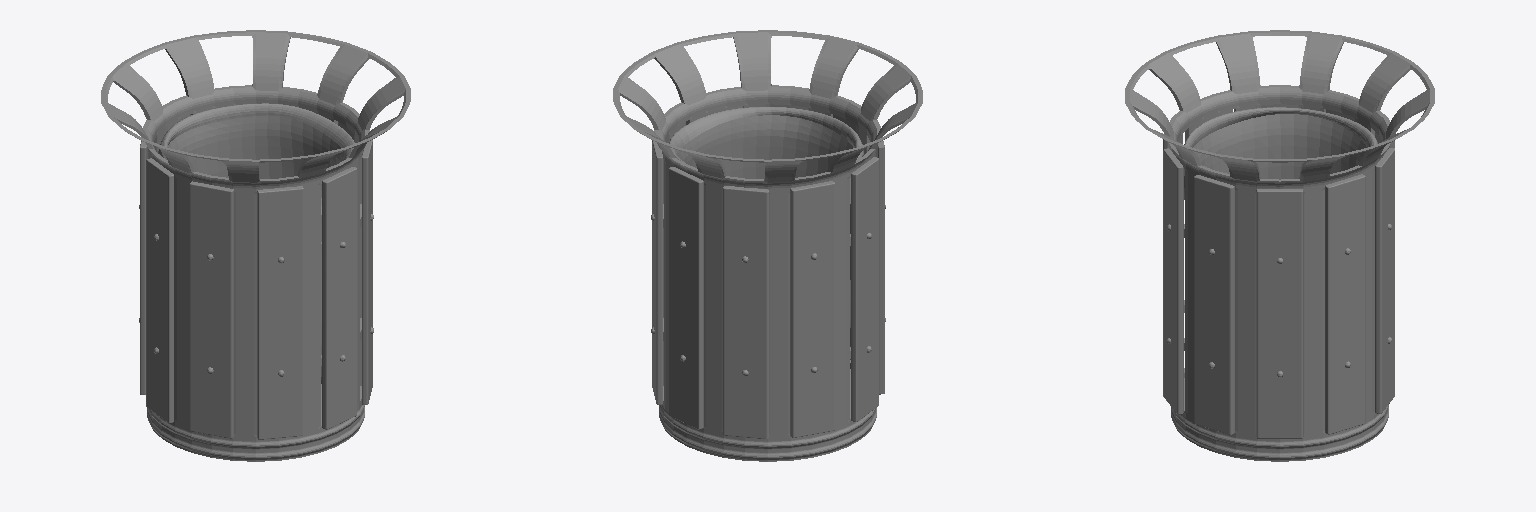
File: bin.obj
The picture shows the model from 3 angles: view 1: azimuth 30°, elevation 25°; view 2: azimuth 150°, elevation 25°; view 3: azimuth 270°, elevation 25°; orthographic projection.
Parts seen in each view (by area): view 1: classic_bin_001, classic_bin_inside_001; view 2: classic_bin_001, classic_bin_inside_001; view 3: classic_bin_001, classic_bin_inside_001.
Boxes of the visible parts, box(x1,y1,x2,y2) form: classic_bin_001: box(101, 30, 410, 461); classic_bin_inside_001: box(158, 103, 354, 383); classic_bin_001: box(613, 30, 922, 461); classic_bin_inside_001: box(669, 107, 863, 327); classic_bin_001: box(1125, 30, 1434, 461); classic_bin_inside_001: box(1184, 107, 1377, 199).
Bounding box in the file's own units: 28.73 × 32.71 × 28.67.